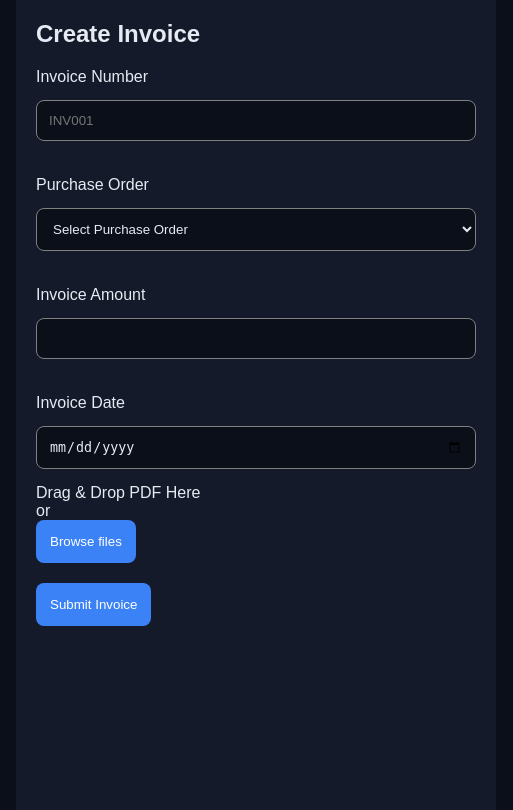
Invoice › shows validation errors when required fields are empty
Step 1. Click the button "Submit Invoice" → click(94, 605), box [36, 583, 151, 626]
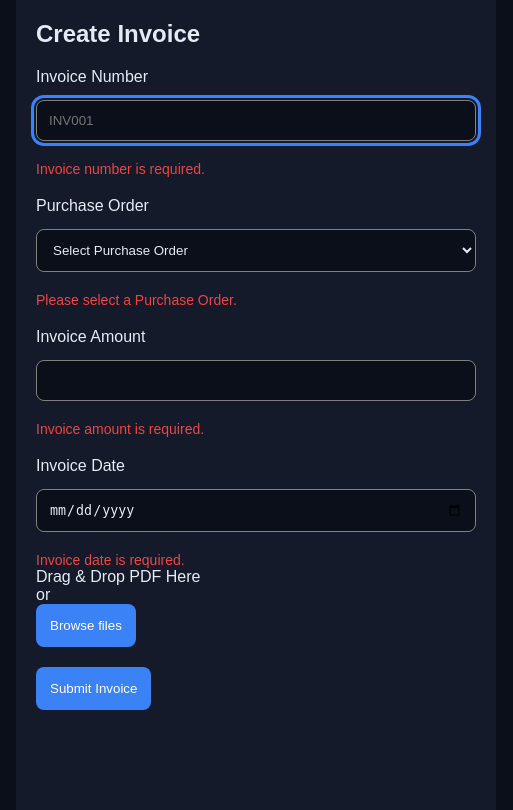
Expected: the text "Invoice number is required." is shown, [36, 161, 205, 177]
Expected: the text "Please select a Purchase Order." is shown, [36, 292, 237, 308]
Expected: the text "Invoice amount is required." is shown, [36, 421, 204, 437]
